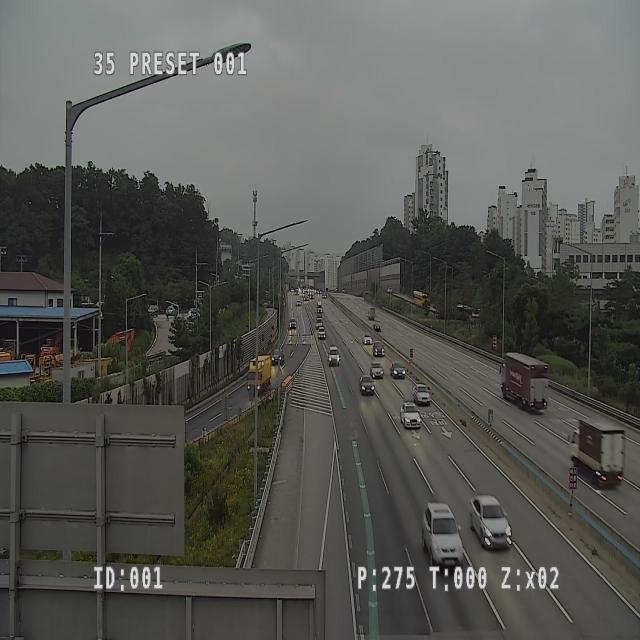Car: (422, 503, 464, 573), (469, 494, 512, 554), (411, 375, 429, 410), (401, 402, 421, 430), (368, 357, 386, 382), (390, 361, 406, 380), (359, 376, 375, 394), (272, 349, 284, 364), (362, 332, 372, 350), (373, 342, 384, 358), (318, 327, 327, 345), (289, 318, 299, 334), (373, 321, 382, 335), (316, 317, 324, 331), (294, 299, 300, 307), (309, 292, 314, 300), (303, 296, 309, 302)
Truck: (567, 420, 625, 491), (499, 353, 549, 411), (247, 356, 271, 394), (364, 304, 379, 323), (328, 346, 339, 366), (316, 299, 324, 319)
